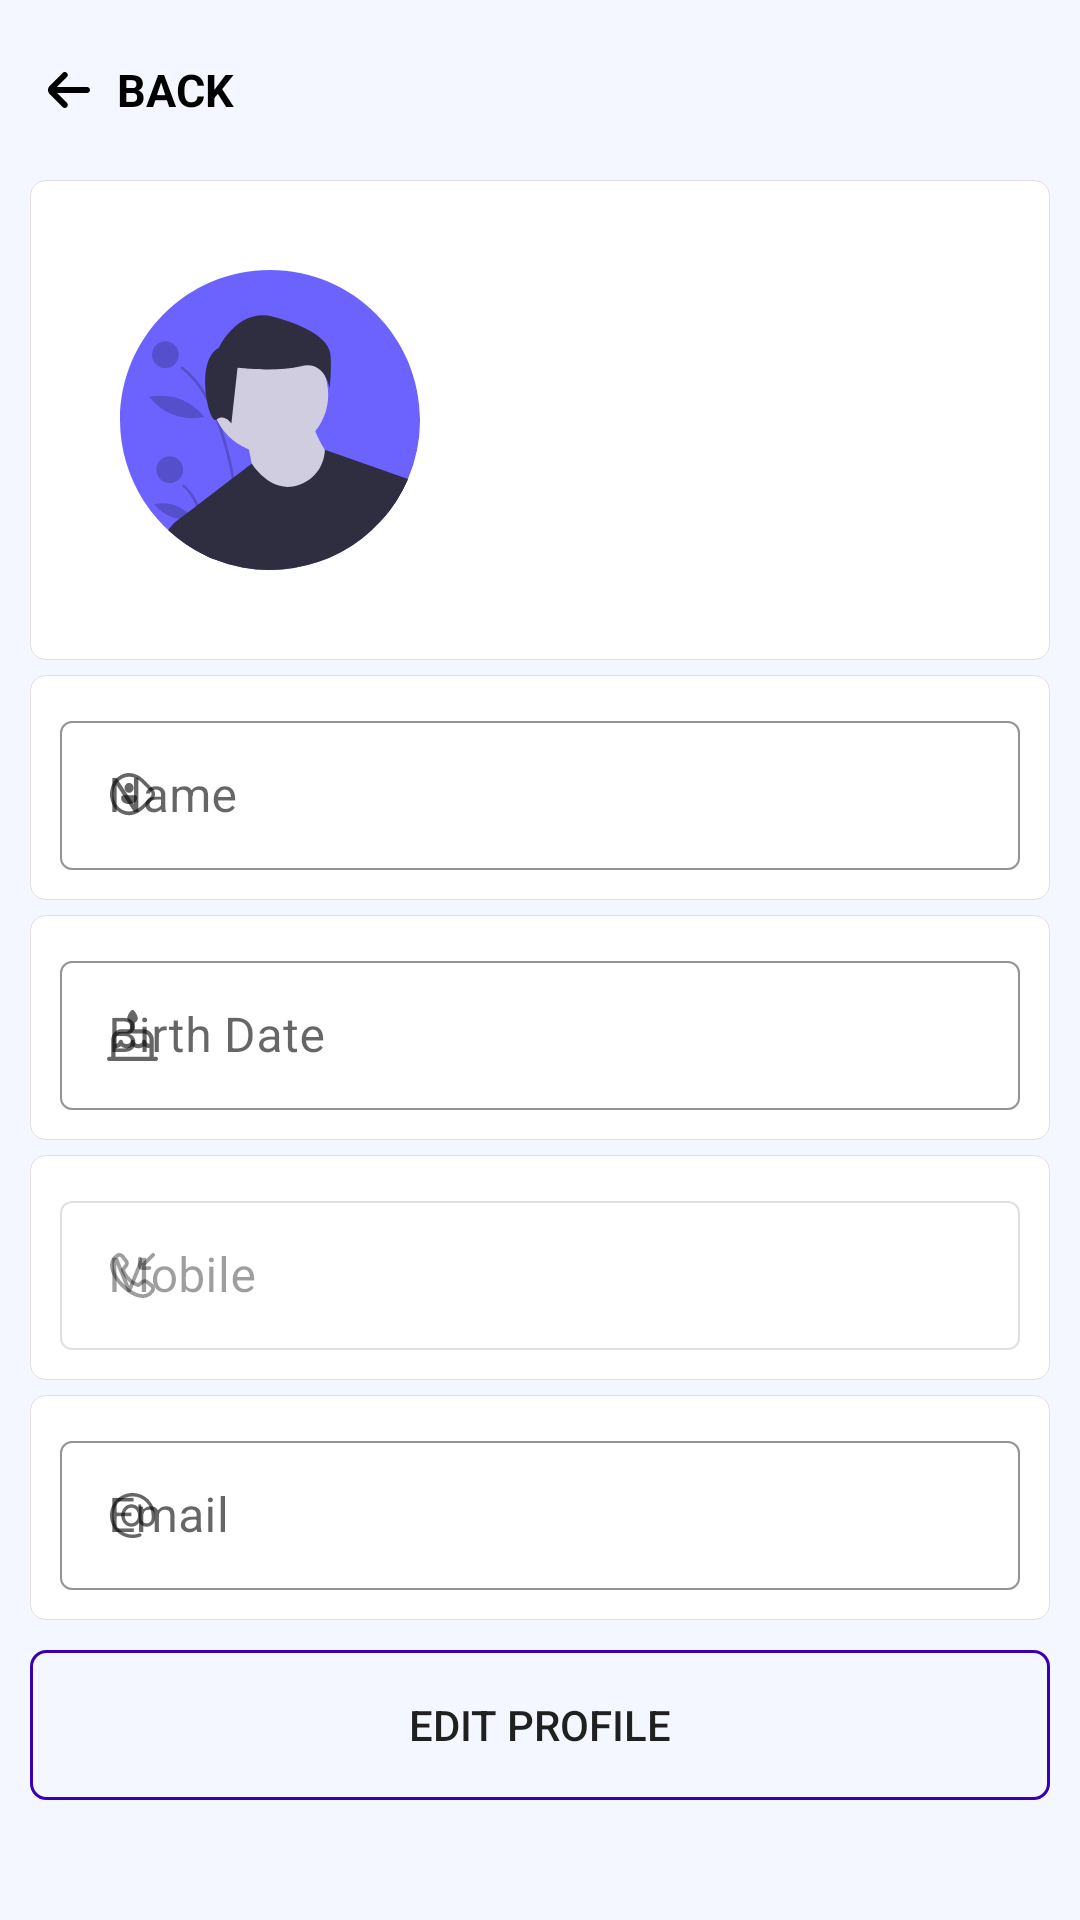

Named icons in this screenshot (1080 × 1920) and their bounding boxes, (x1, y1, x2, y2):
avtar: (120, 270, 420, 570)
